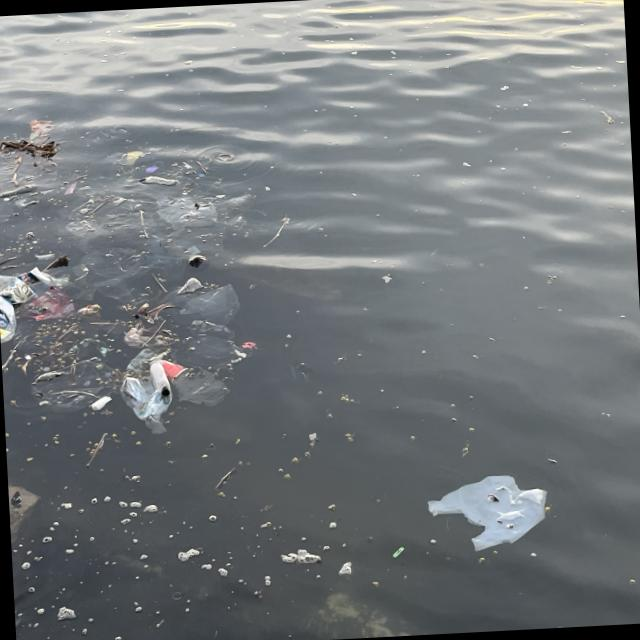foam: (92, 396, 114, 414)
plastic bag: (425, 472, 550, 553)
plastic bottle: (152, 361, 172, 399)
